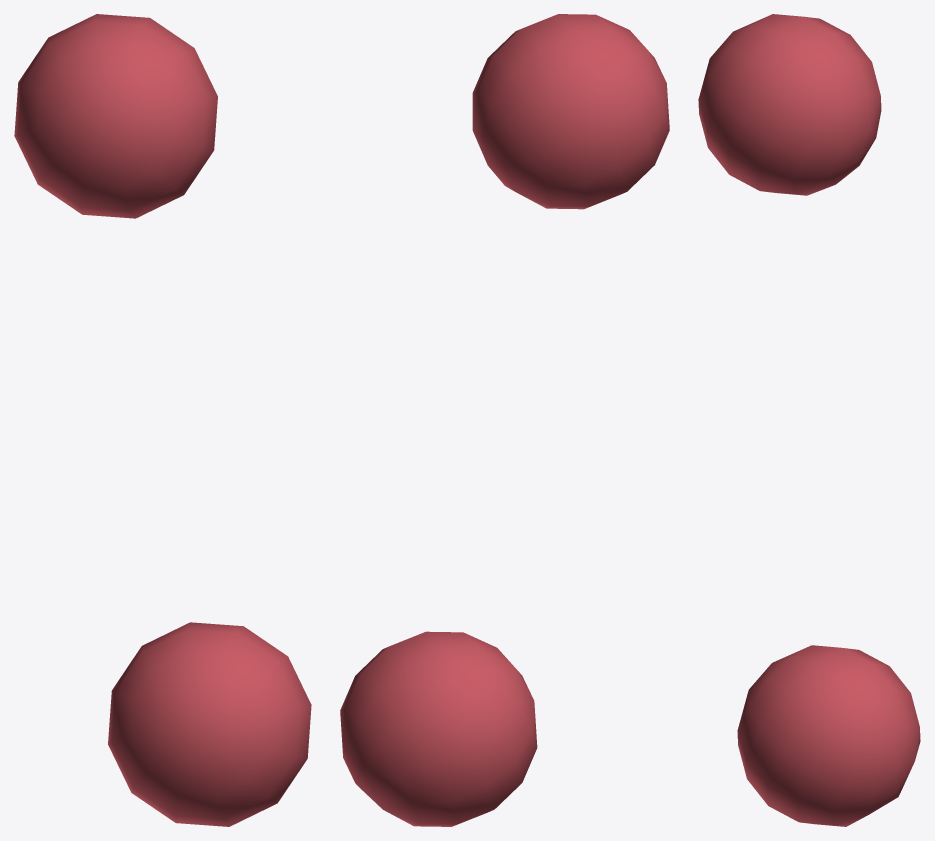
File: linfatico-thyroid-nodes-r.glb
3 renders of one model, left to right at view 1: azimuth 30°, elevation 25°; view 2: azimuth 150°, elevation 25°; view 3: azimuth 270°, elevation 25°, orthographic. The views are drawn at different scales.
Parts seen in each view (by area): view 1: Thyroid nodes.r; view 2: Thyroid nodes.r; view 3: Thyroid nodes.r.
Part boxes in pixels (bbox=[...]): Thyroid nodes.r: bbox=[14, 14, 311, 826]; Thyroid nodes.r: bbox=[340, 14, 669, 826]; Thyroid nodes.r: bbox=[698, 14, 920, 826].
Size of the model in its own units: 0.00422 by 0.0115 by 0.00311.
